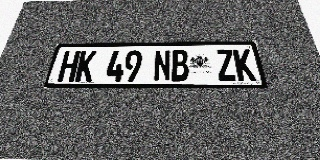4: (105, 50, 126, 81)
9: (123, 50, 142, 81)
B: (171, 50, 189, 81)
H: (57, 51, 81, 82)
K: (233, 49, 256, 81), (74, 51, 97, 81)
N: (153, 50, 171, 81)
Z: (215, 49, 237, 81)
